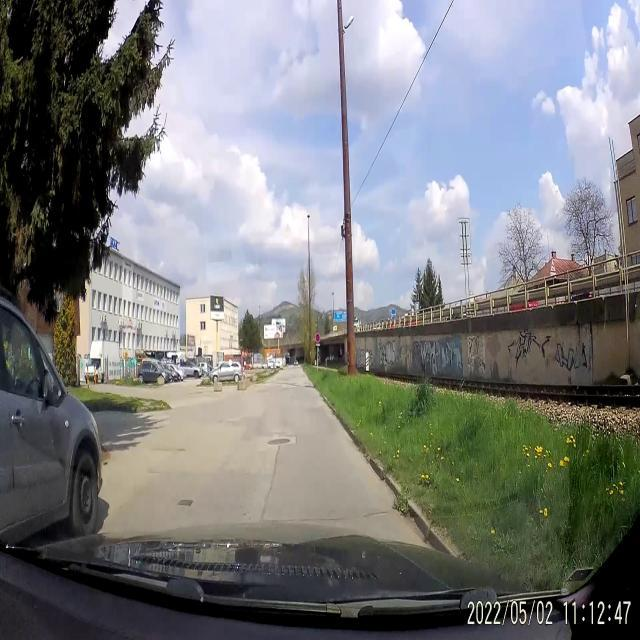Pothole: (264, 431, 298, 454), (148, 440, 187, 460), (174, 489, 193, 515)
